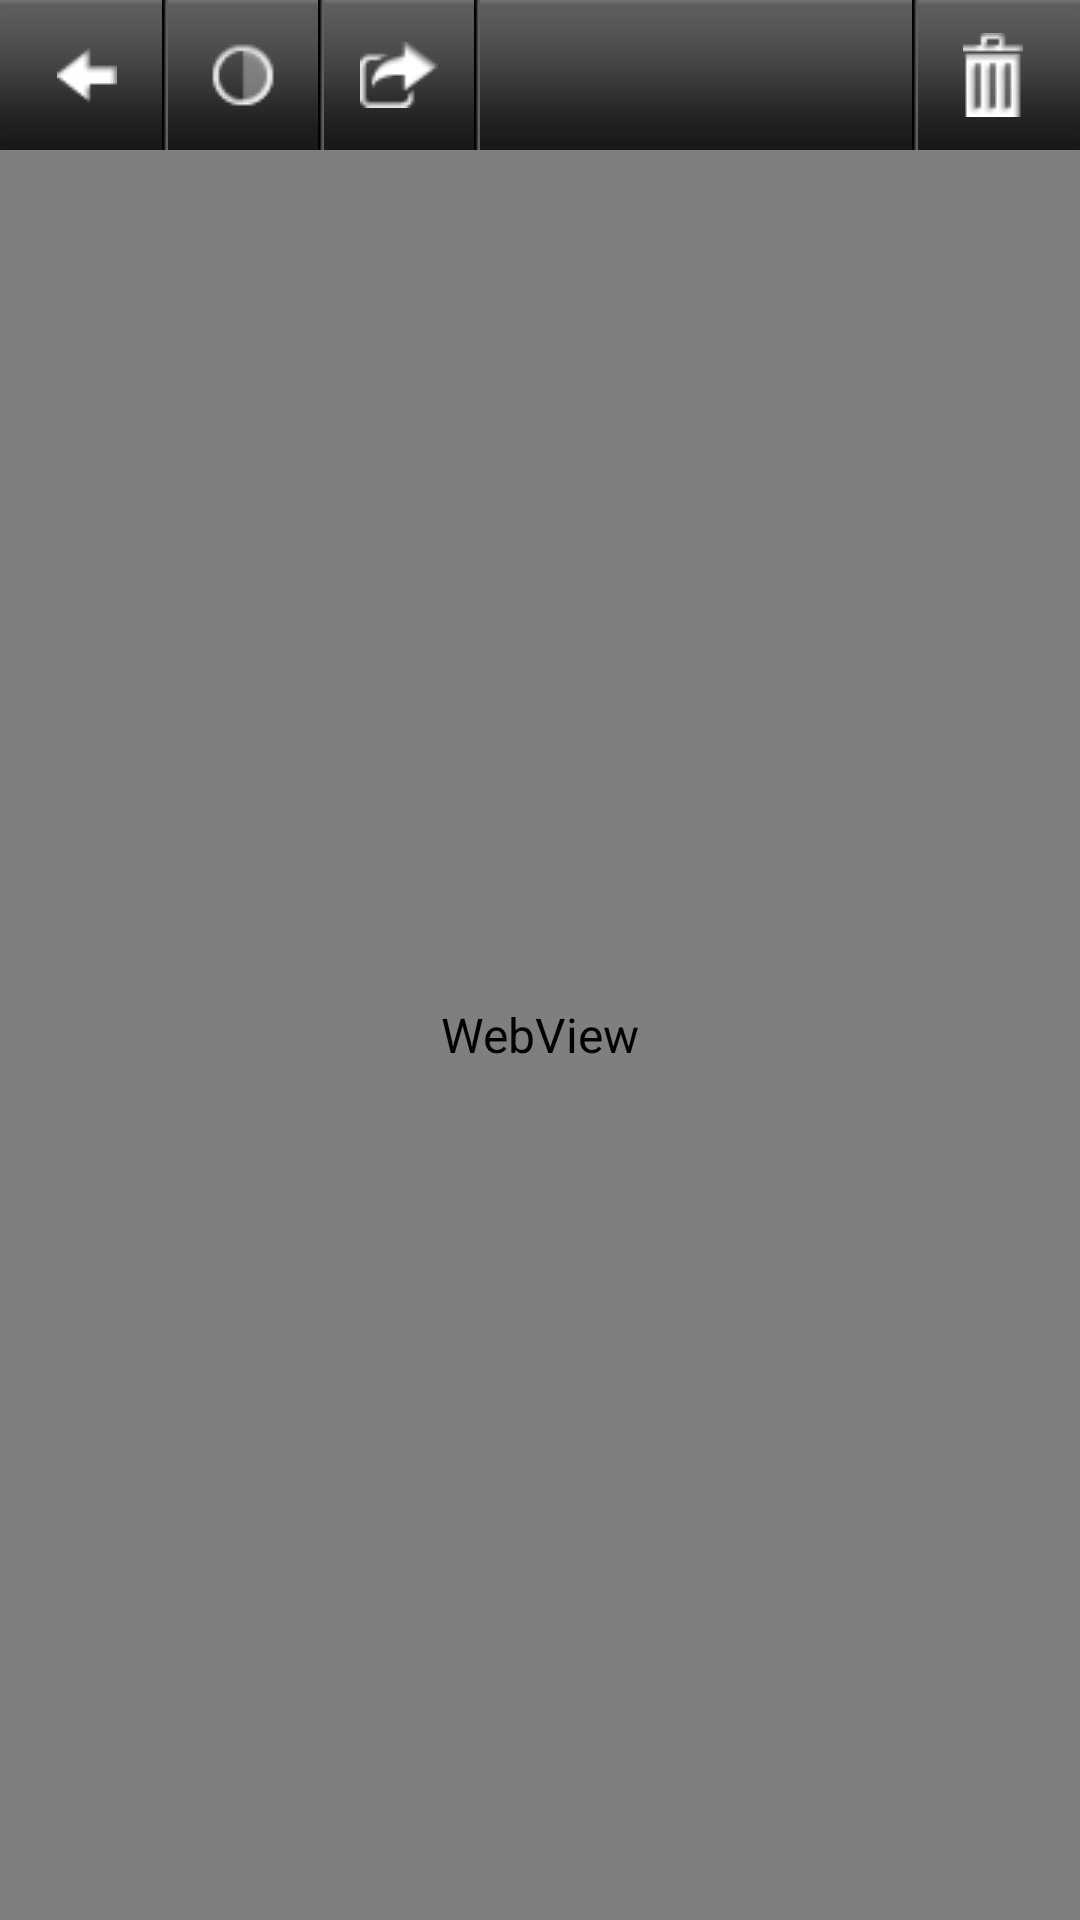

Point at icon controls on the screen. Image size 1080×1920, points as point (x, y).
delete: point (993, 75)
mode: point (243, 75)
return: point (87, 75)
